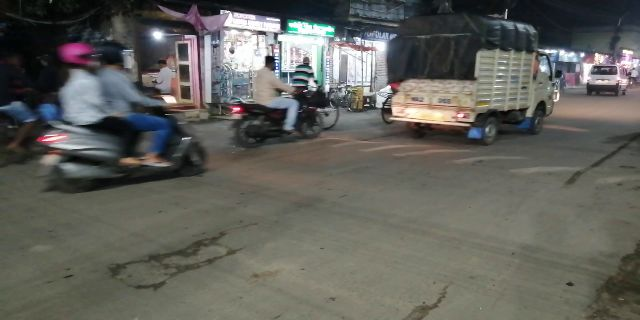Cycle: (287, 57, 349, 141)
Minitruck: (389, 16, 556, 143)
Motorbike: (42, 39, 203, 192), (227, 53, 319, 152)
